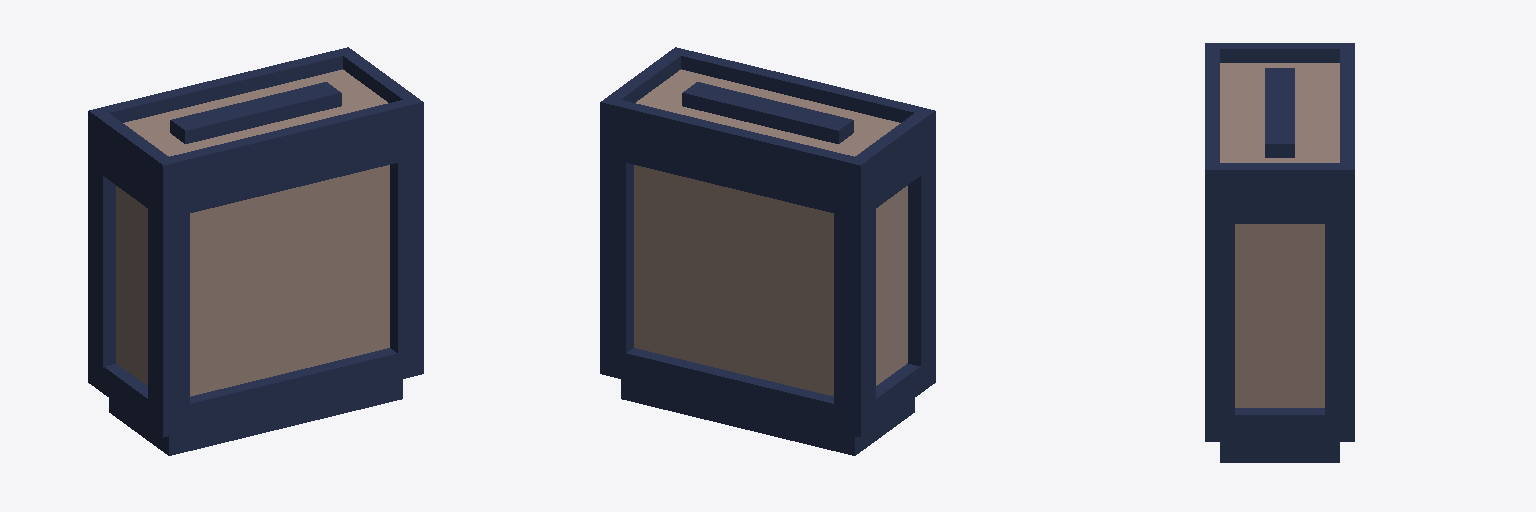
File: low_wideB_CyPk.obj
The picture shows the model from 3 angles: view 1: azimuth 30°, elevation 25°; view 2: azimuth 150°, elevation 25°; view 3: azimuth 270°, elevation 25°; orthographic projection.
Parts seen in each view (by area): view 1: low_wideB; view 2: low_wideB; view 3: low_wideB.
Boxes of the visible parts, <box> form: low_wideB: <box>88,47,423,455</box>; low_wideB: <box>600,47,935,455</box>; low_wideB: <box>1205,43,1354,462</box>.
Bounding box in the file's own units: 1 × 1.1 × 0.5.